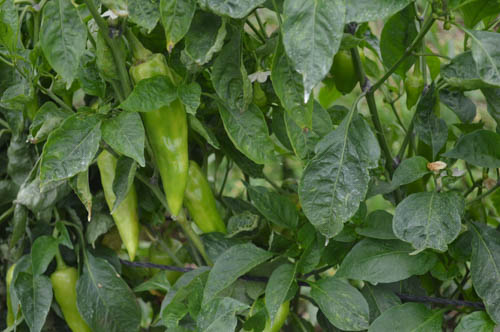ChiliPepper: (132, 58, 186, 220), (90, 104, 138, 258), (181, 161, 221, 237), (52, 269, 91, 328), (333, 43, 363, 101), (403, 73, 424, 112)
